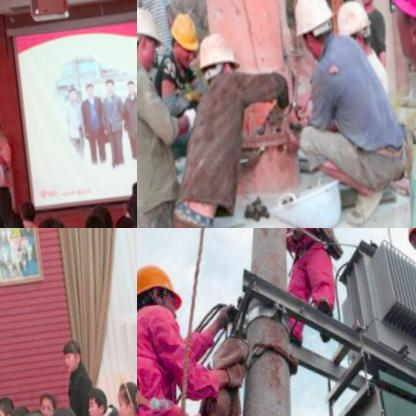head: (83, 376, 116, 416), (112, 368, 137, 416), (32, 206, 82, 228), (60, 330, 88, 368), (80, 200, 117, 228), (93, 193, 122, 228), (45, 396, 91, 416), (36, 381, 62, 416), (113, 202, 137, 228), (0, 390, 23, 416), (8, 204, 32, 228), (6, 399, 37, 416), (23, 195, 41, 219), (22, 405, 61, 416), (131, 169, 137, 199), (0, 112, 6, 140)
helmet: (365, 0, 416, 98), (137, 249, 192, 330), (190, 22, 250, 96), (283, 0, 344, 60), (164, 5, 209, 70), (137, 0, 169, 72), (331, 0, 379, 47), (402, 228, 416, 247)
